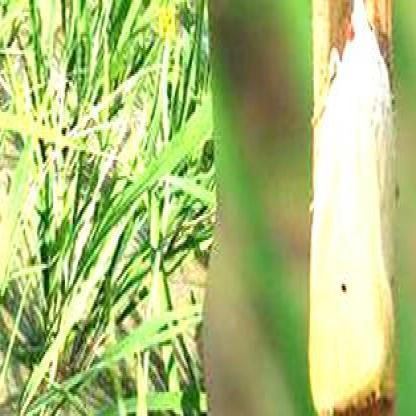stem-borer: (306, 0, 400, 416)
